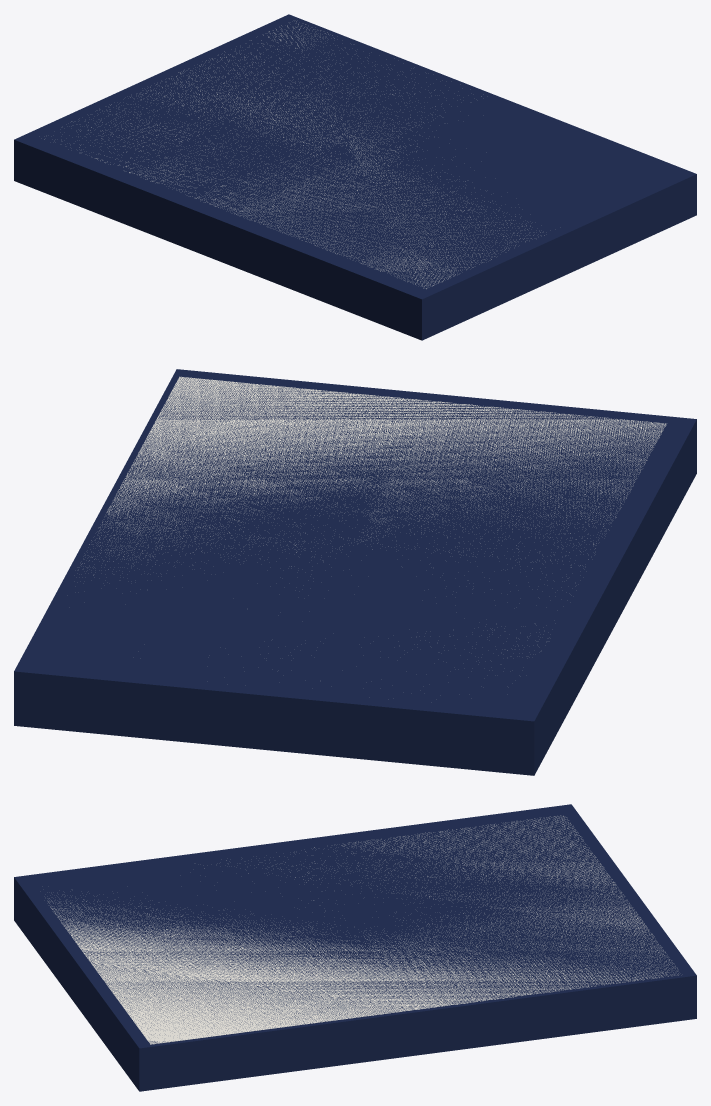
The model's file is caderno_apostas.glb.
3 renders of one model, top to bottom at view 1: azimuth 30°, elevation 25°; view 2: azimuth 150°, elevation 25°; view 3: azimuth 270°, elevation 25°, orthographic. The views are drawn at different scales.
Parts seen in each view (by area): view 1: I_Caderno_Apostas_Capa, I_Caderno_Apostas_Folhas; view 2: I_Caderno_Apostas_Capa, I_Caderno_Apostas_Folhas; view 3: I_Caderno_Apostas_Capa, I_Caderno_Apostas_Folhas.
Boxes of the visible parts, x1=… form: I_Caderno_Apostas_Capa: x1=14, y1=14, x2=696, y2=340; I_Caderno_Apostas_Folhas: x1=44, y1=21, x2=544, y2=288; I_Caderno_Apostas_Capa: x1=14, y1=369, x2=696, y2=775; I_Caderno_Apostas_Folhas: x1=81, y1=376, x2=666, y2=650; I_Caderno_Apostas_Capa: x1=14, y1=804, x2=696, y2=1091; I_Caderno_Apostas_Folhas: x1=48, y1=815, x2=678, y2=1044.
Size of the model in its own units: 0.2179 by 0.018 by 0.2575.
